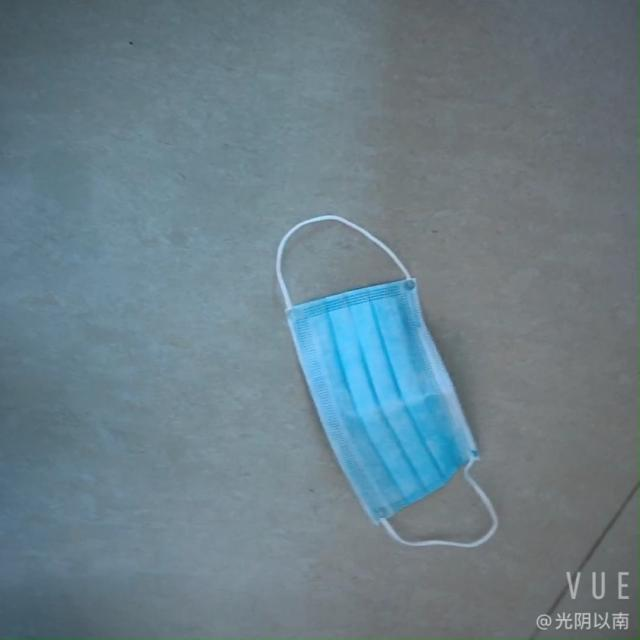non-organic waste: (258, 283, 479, 520)
